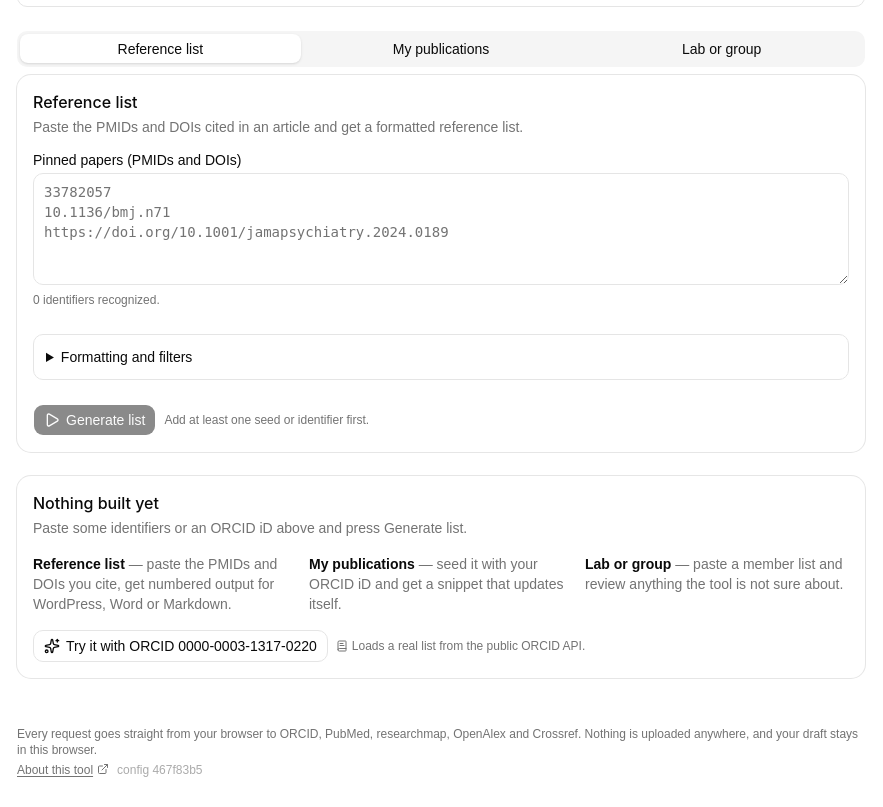
Scenario: the source-disclaimer checkbox on the generated snippet › is its own control, not the credit one
(page scrolled)
Click the button "Try it with ORCID 0000-0003-1317-0220" at [180, 646], box [33,630,328,662]
(page scrolled)
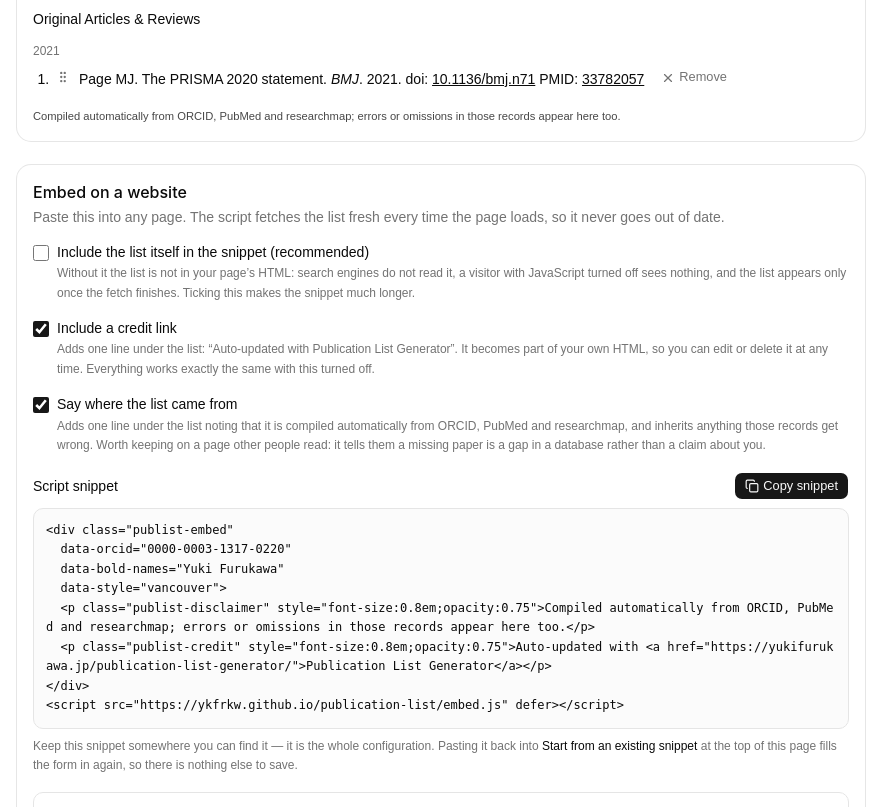
Check: the checkbox labelled "Say where the list came from" is checked, box [33,398,49,414]
